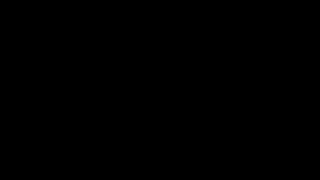turn_left: (202, 48, 222, 68)
